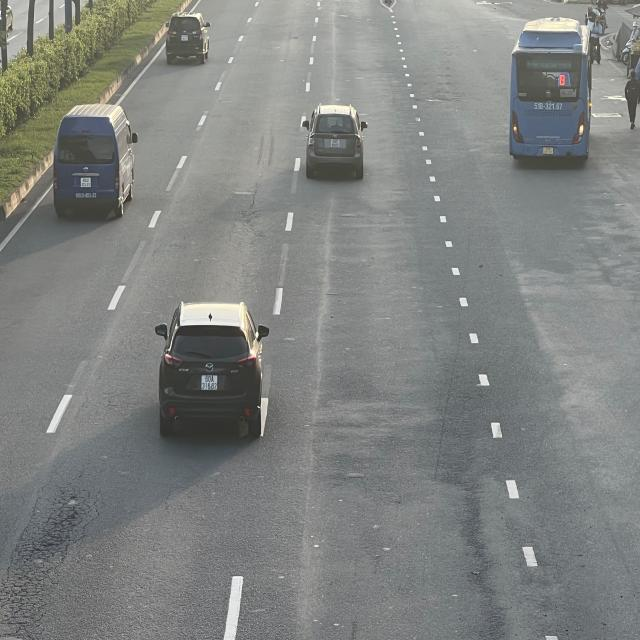car: (155, 302, 269, 439), (305, 104, 370, 178), (167, 10, 212, 61)
coach: (512, 20, 595, 164)
van: (52, 103, 138, 215)
